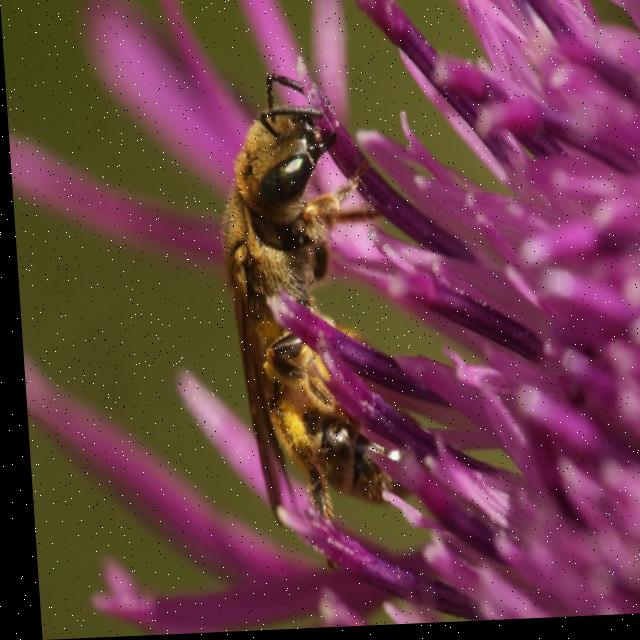Seladonia: (191, 63, 415, 554)
